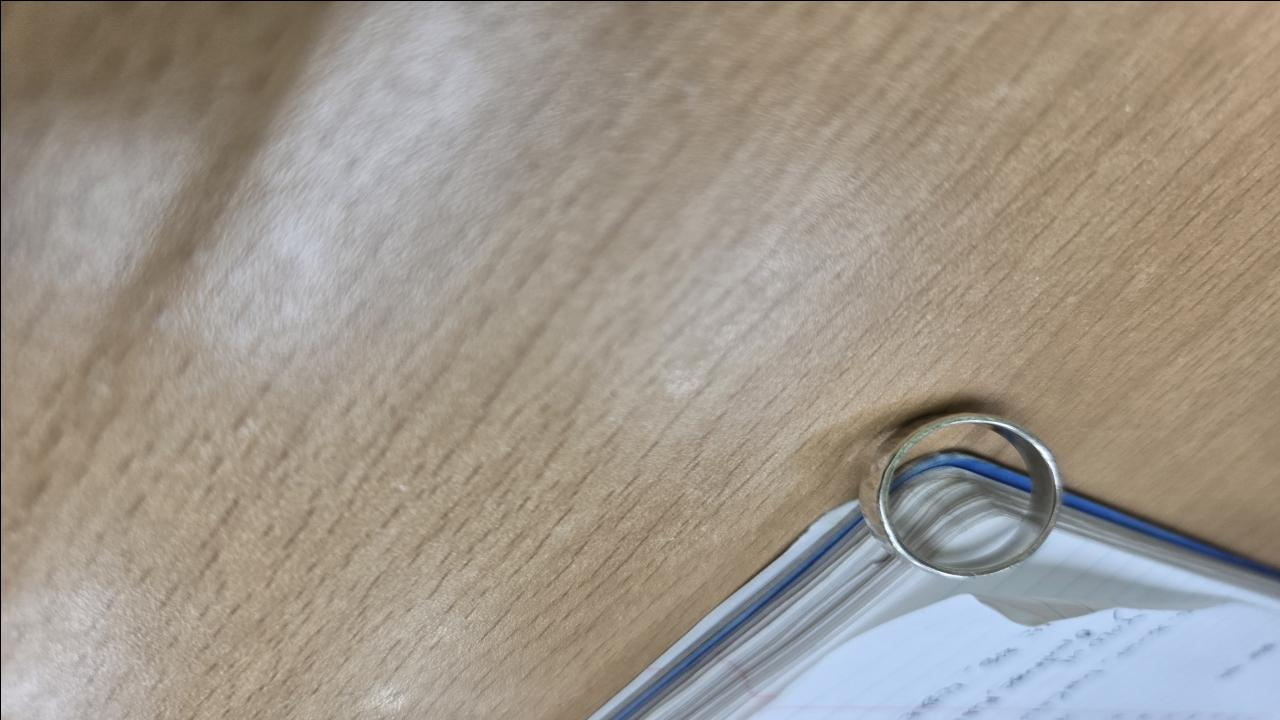ring: (856, 408, 1061, 577)
